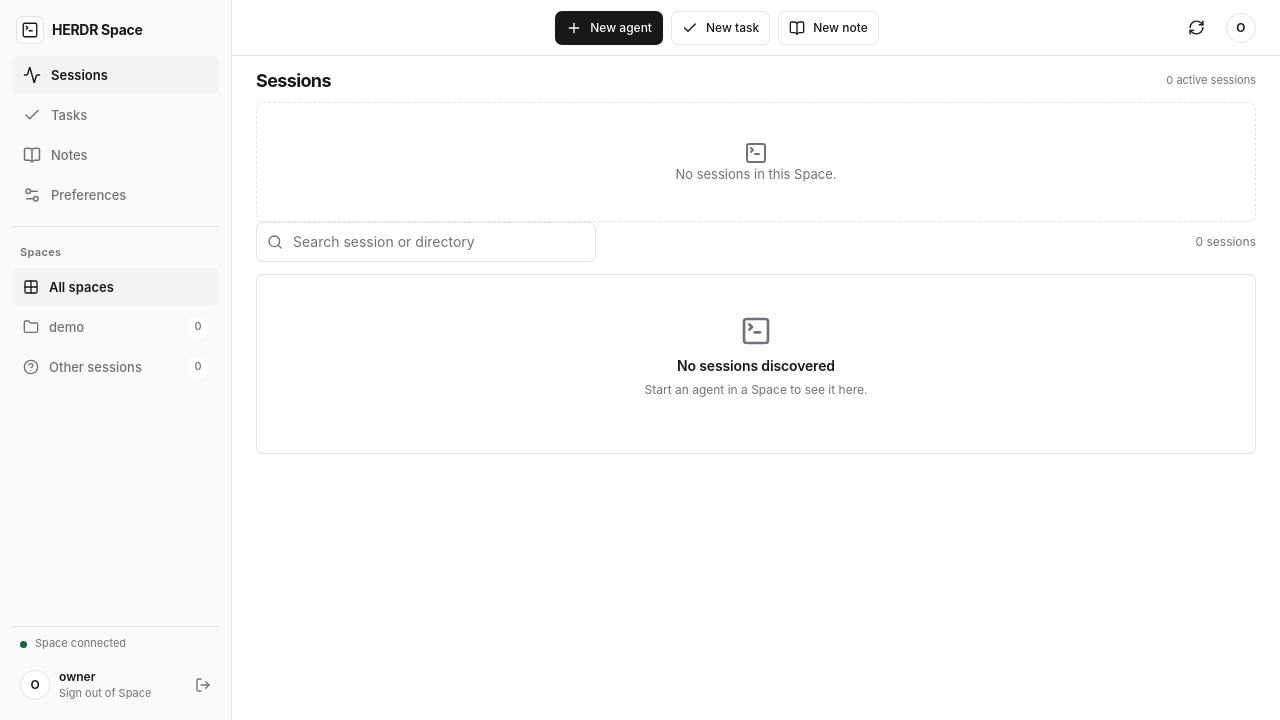
it: offers GitHub Issues as a separate Tasks source
The image size is (1280, 720).
Click the button "Tasks": (116, 115) [12, 96, 219, 134]
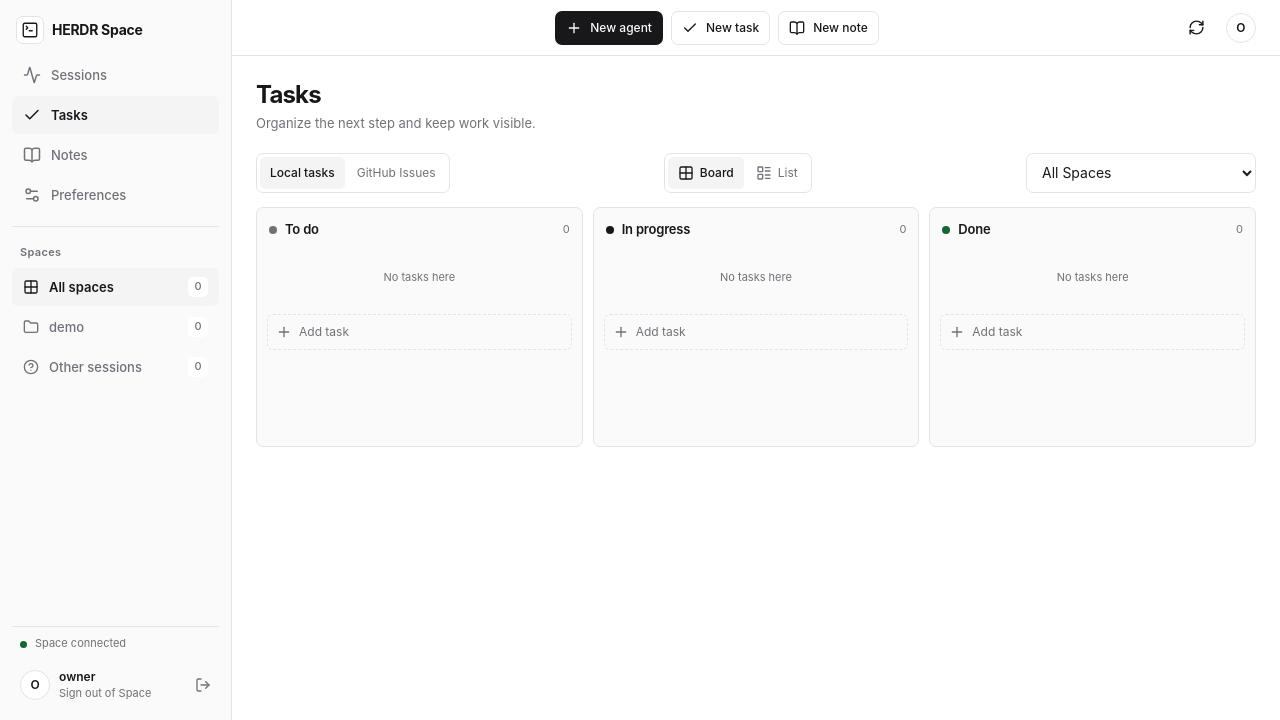
Click the button "GitHub Issues": (396, 173) [347, 157, 446, 189]
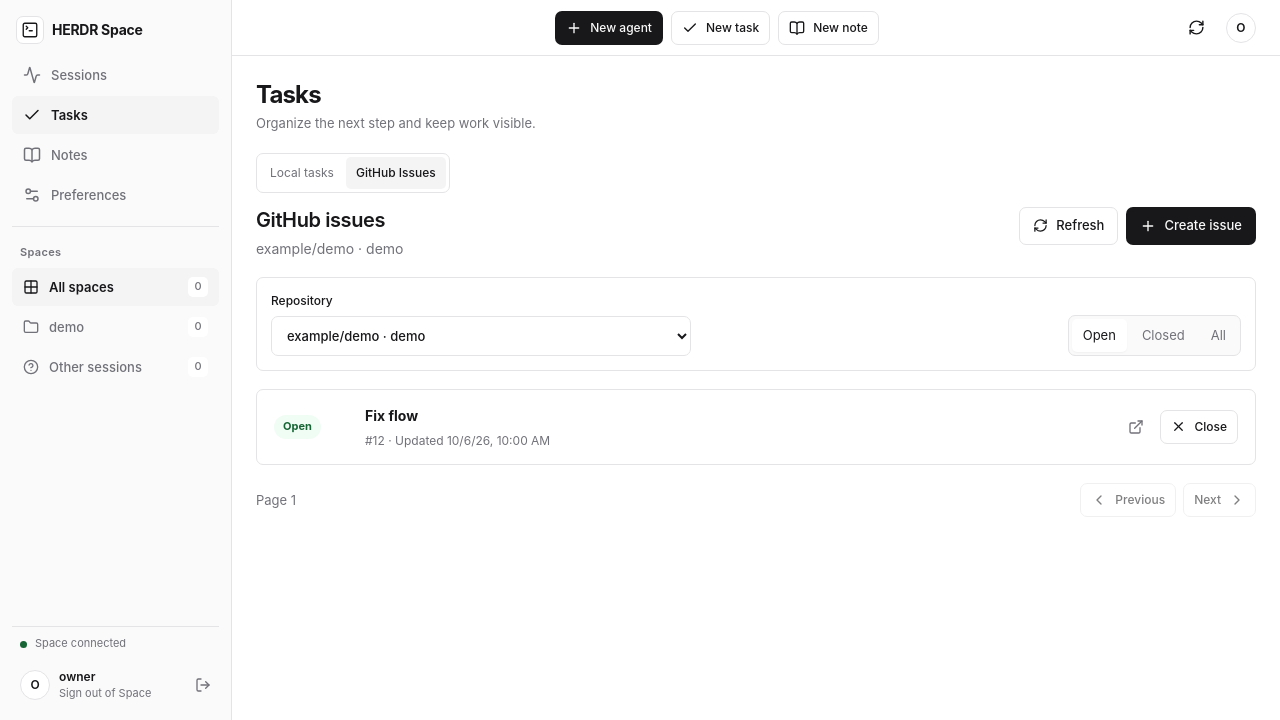
Check: the button "Fix flow" is shown, box [365, 404, 418, 428]
